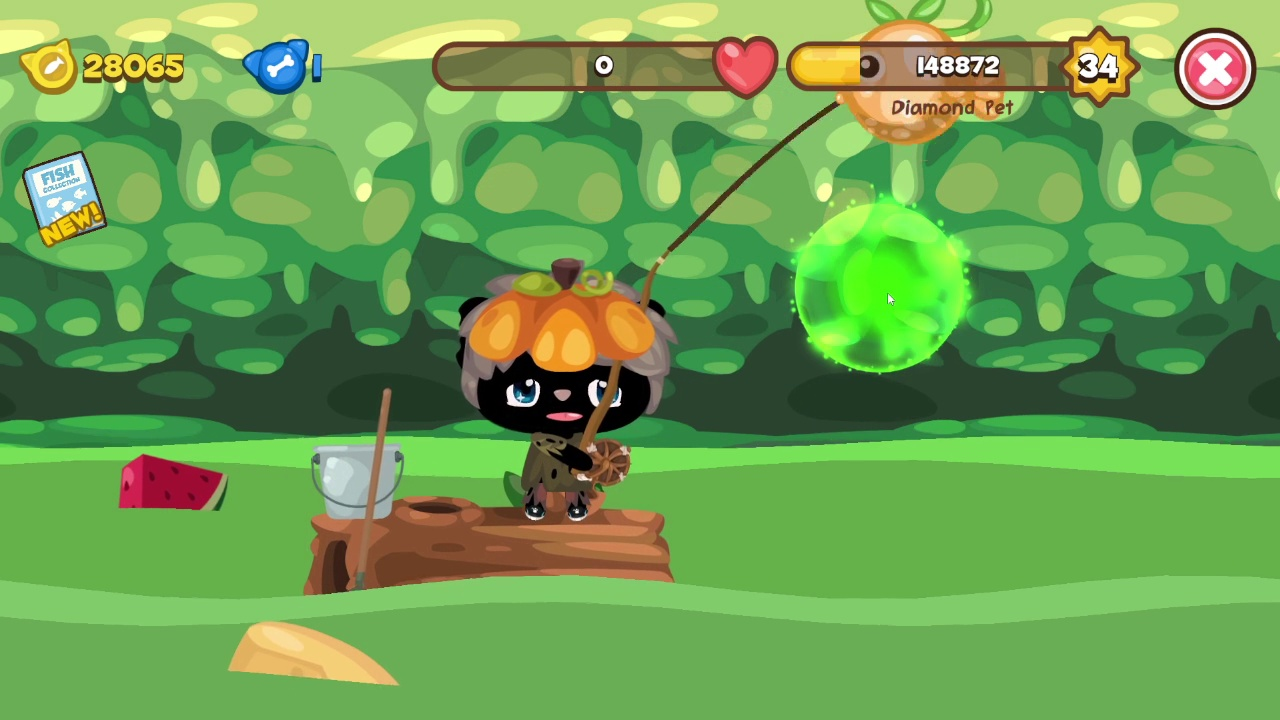point: (792, 199, 970, 374)
